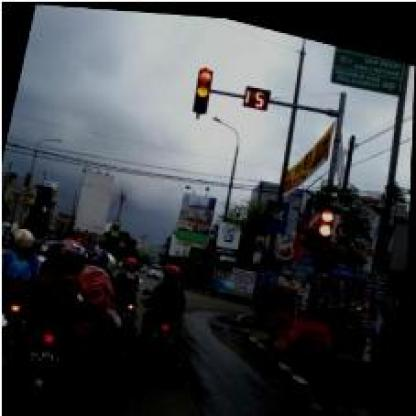red: (314, 200, 338, 251), (190, 63, 210, 109)
